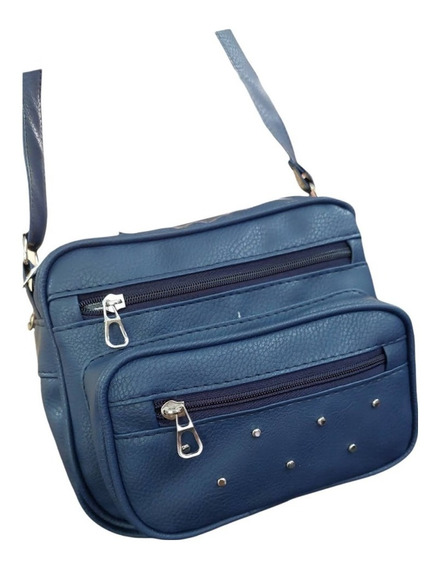cartera: (19, 27, 419, 540)
